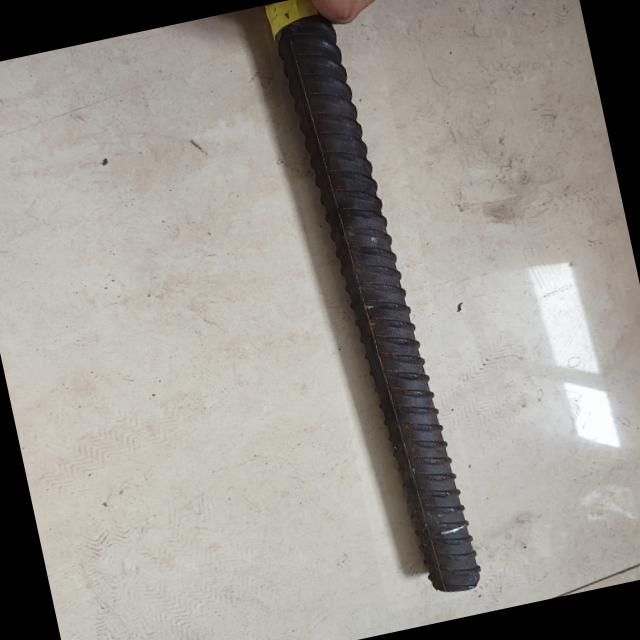ribbed bar: (260, 0, 494, 612)
